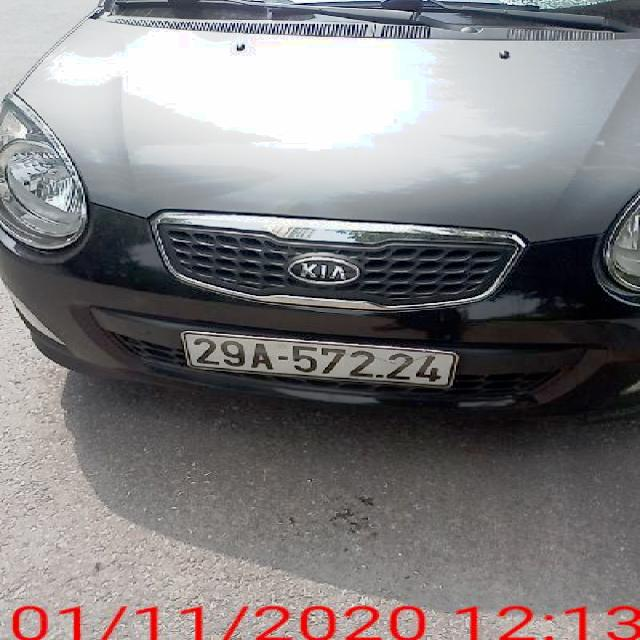license_plate: (186, 334, 455, 387)
